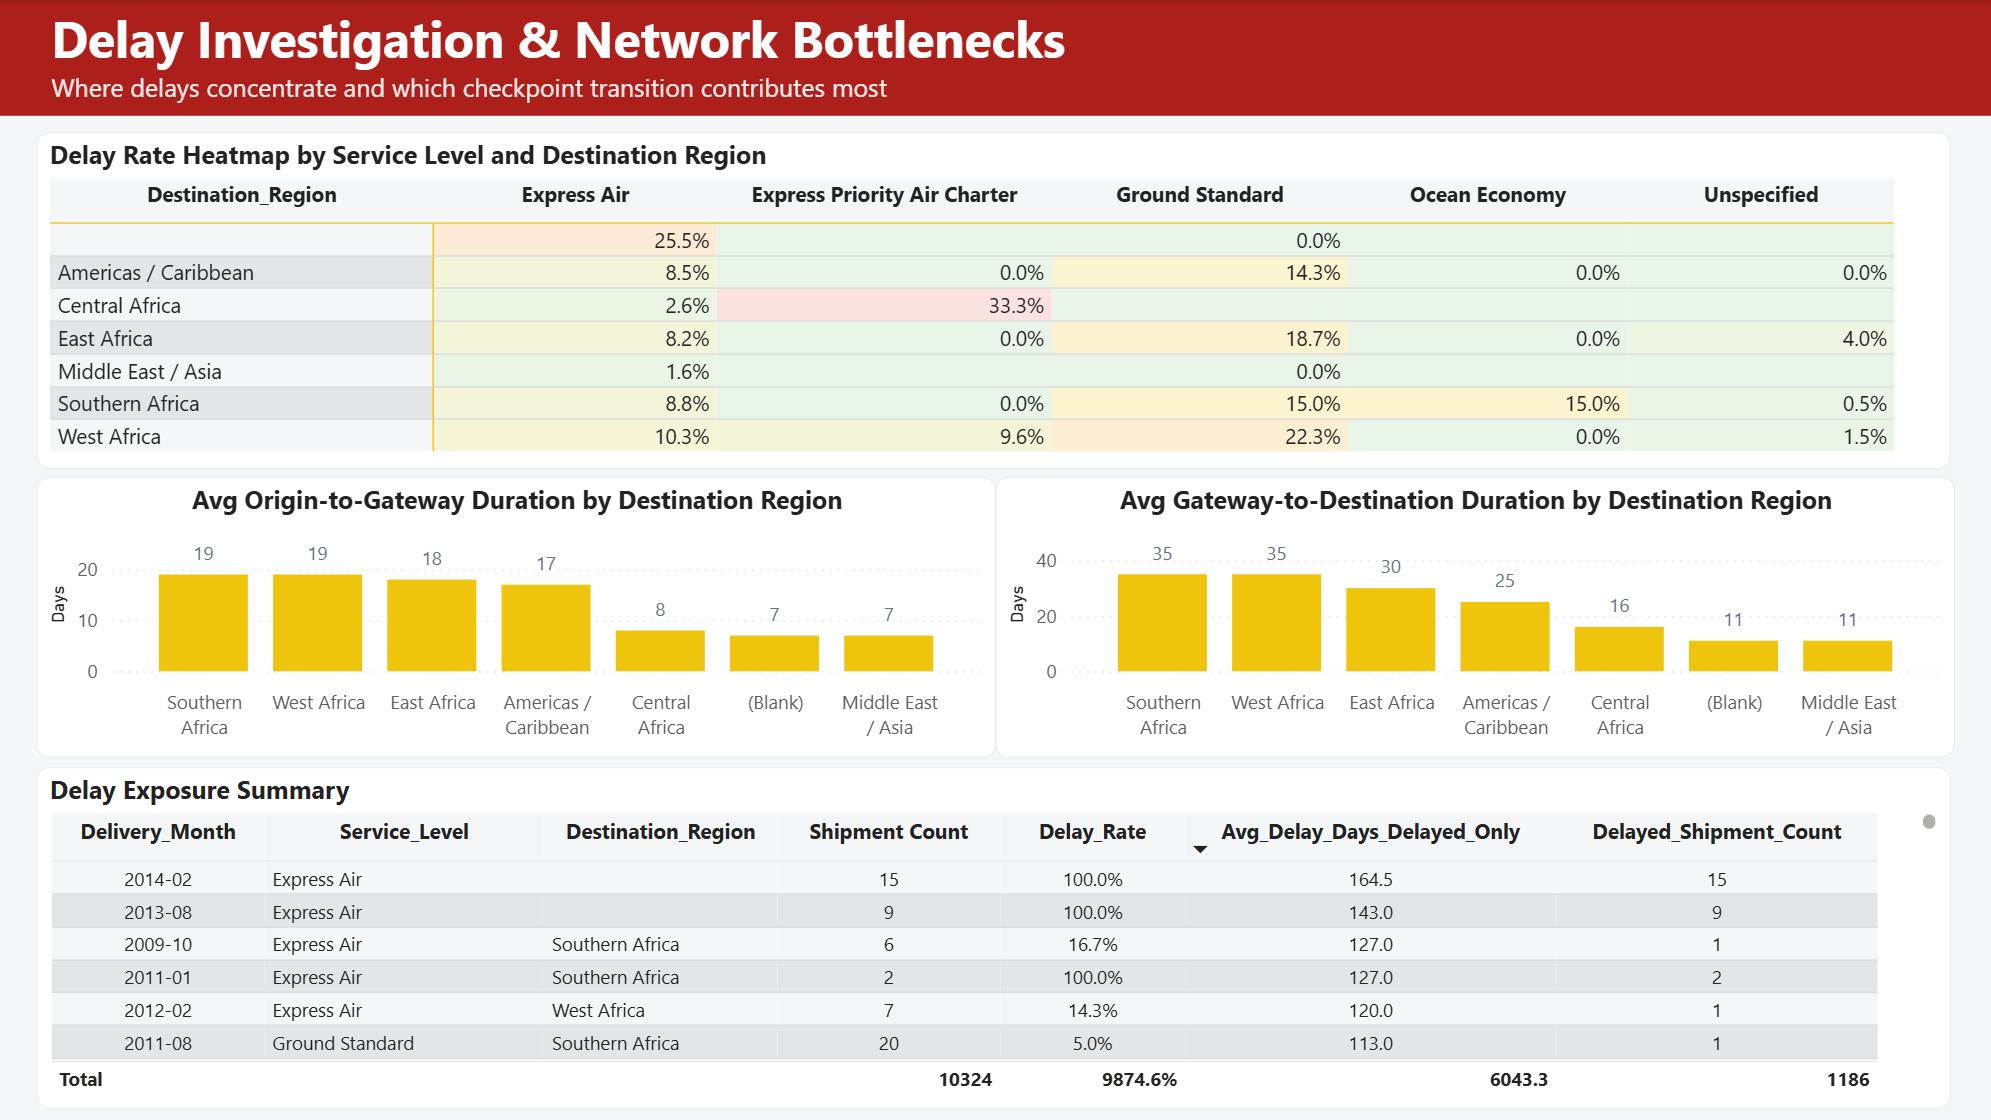

The dashboard page shown, as its layout file describes it:
{"tool":"powerbi","page":{"name":"Operational Bottlenecks","canvas":[1280,720],"ordinal":1},"visuals":[{"type":"shape","title":"Executive Overview","box":[0,0,1280.3,75],"z":0},{"type":"textbox","title":"Delay Investigation & Network Bottlenecks","box":[29.6,3.9,1221.9,65.6],"z":1000},{"type":"pivotTable","title":"Delay Rate Heatmap by Service Level and Destination Region","fields":{"Rows":["qry_02_delay_exposure_by_service_region.Destination_Region"],"Columns":["qry_02_delay_exposure_by_service_region.Service_Level"],"Values":["Avg(qry_02_delay_exposure_by_service_region.Delay_Rate)"]},"box":[24.4,84.9,1227.1,216.1],"z":2000},{"type":"clusteredColumnChart","title":"Avg Origin-to-Gateway Duration  by Destination Region","fields":{"Category":["qry_03b_checkpoint_segment_summary.Destination_Region"],"Y":["Sum(qry_03b_checkpoint_segment_summary.Avg_Origin_To_Gateway_Duration)"]},"box":[24.7,305.8,615,180.1],"z":3000},{"type":"clusteredColumnChart","title":"Avg Gateway-to-Destination Duration  by Destination Region","fields":{"Category":["qry_03b_checkpoint_segment_summary.Destination_Region"],"Y":["Sum(qry_03b_checkpoint_segment_summary.Avg_Gateway_To_Destination_Duration)"]},"box":[639.3,305.8,615,180.1],"z":4000},{"type":"tableEx","title":"Delay Exposure Summary","fields":{"Values":["qry_02_delay_exposure_by_service_region.Delivery_Month","qry_02_delay_exposure_by_service_region.Service_Level","qry_02_delay_exposure_by_service_region.Destination_Region","Sum(qry_02_delay_exposure_by_service_region.Shipment_Count)","Sum(qry_02_delay_exposure_by_service_region.Delay_Rate)","Sum(qry_02_delay_exposure_by_service_region.Avg_Delay_Days_Delayed_Only)","Sum(qry_02_delay_exposure_by_service_region.Delayed_Shipment_Count)"]},"box":[24.4,492.6,1227.1,218.7],"z":5000}]}

Visuals, with their boxes in screenshot pixels (x1, y1, x2, y2), scaled from the page's 1280x720 canvas onto the 1991x1120 screenshot:
"Executive Overview" shape: box=[0, 0, 1990, 117]
"Delay Investigation & Network Bottlenecks" textbox: box=[46, 6, 1947, 108]
"Delay Rate Heatmap by Service Level and Destination Region" pivotTable: box=[38, 132, 1947, 468]
"Avg Origin-to-Gateway Duration  by Destination Region" clusteredColumnChart: box=[38, 476, 995, 756]
"Avg Gateway-to-Destination Duration  by Destination Region" clusteredColumnChart: box=[994, 476, 1951, 756]
"Delay Exposure Summary" tableEx: box=[38, 766, 1947, 1106]
